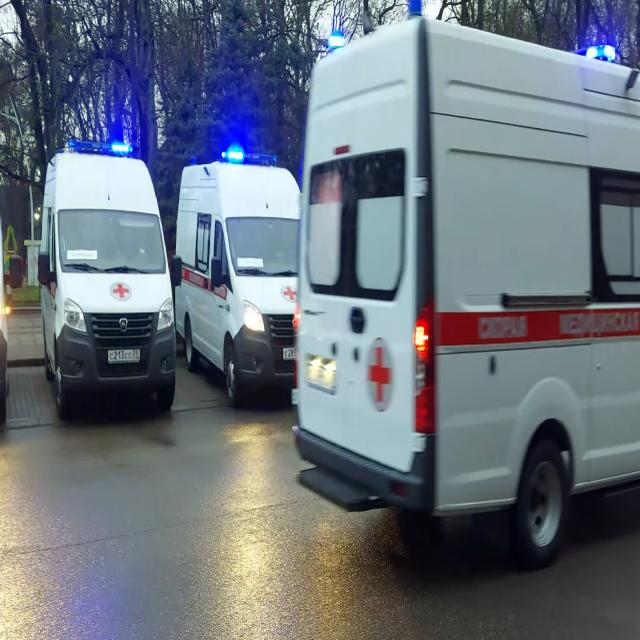ambulance: (293, 1, 640, 572), (38, 125, 182, 433), (173, 142, 323, 415)
